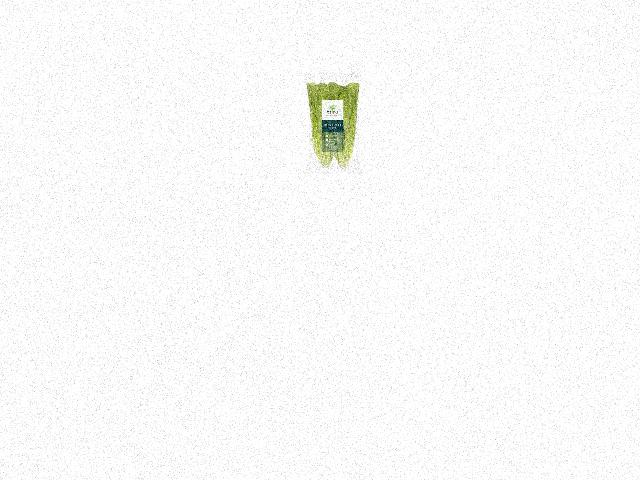lettuce: (306, 79, 366, 169)
